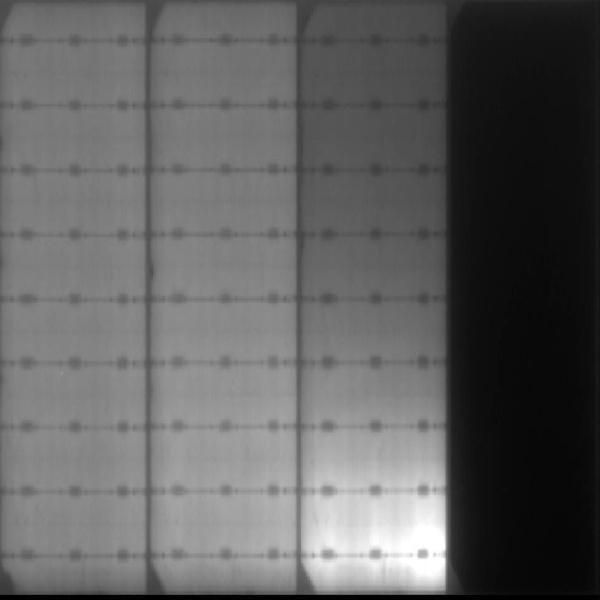hot_spot: (409, 512, 443, 551), (372, 528, 404, 547), (414, 562, 445, 578)
no_electricity: (447, 3, 599, 594)
